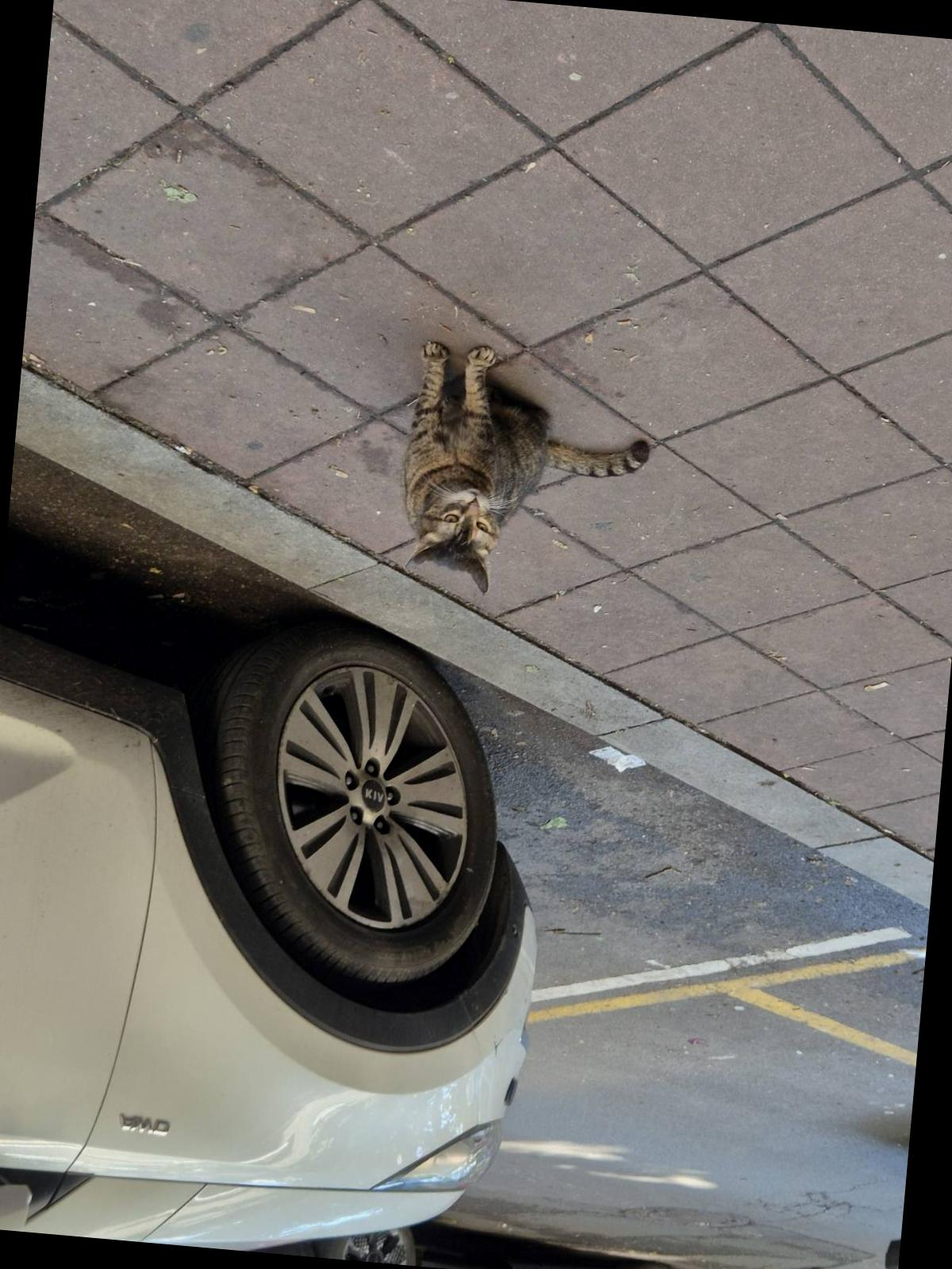macka: (395, 338, 660, 608)
